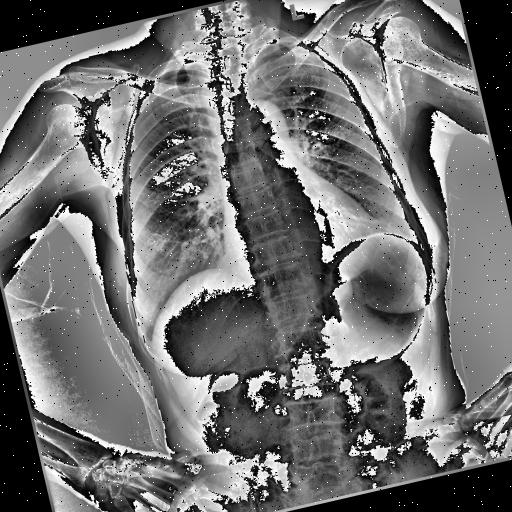0- Aortic enlargement: (236, 92, 296, 164), (240, 94, 294, 152), (246, 94, 292, 142)
3- Cardiomegaly: (218, 202, 388, 282)
